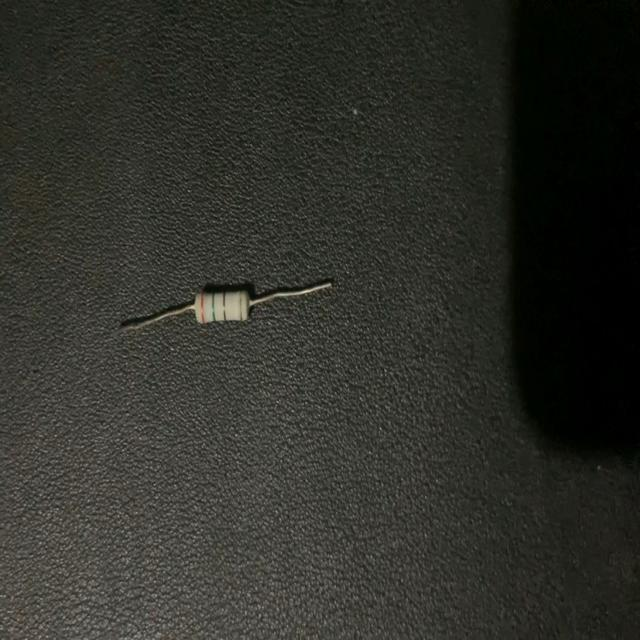resistor: (119, 278, 332, 334)
